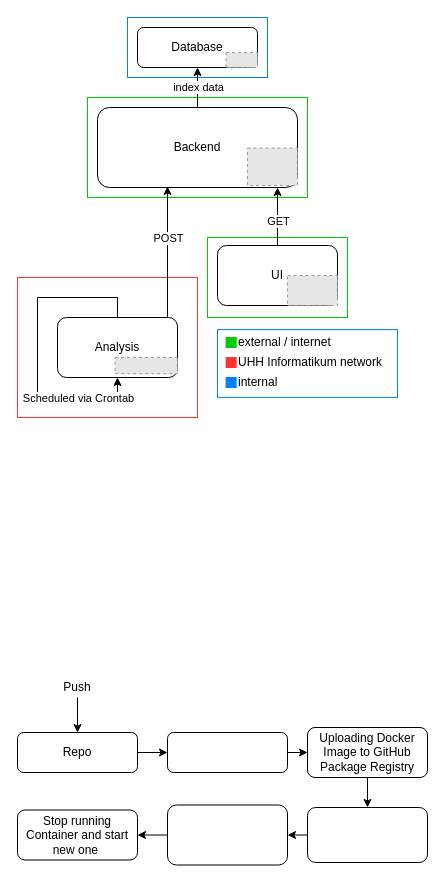
The diagram is 445 pixels wide and 883 high, and some of its shapes have lost their labels. Grey dashed boxes stand in for pictures. The shapes that lost their labels are listed below. From the top down, each one's centre as x and y in pixels, then its label:
At (x=227, y=752): "Testing the application".
At (x=227, y=834): "Download Docker Image to Application Server".
At (x=367, y=834): "Connect to Application Server via SSH".
